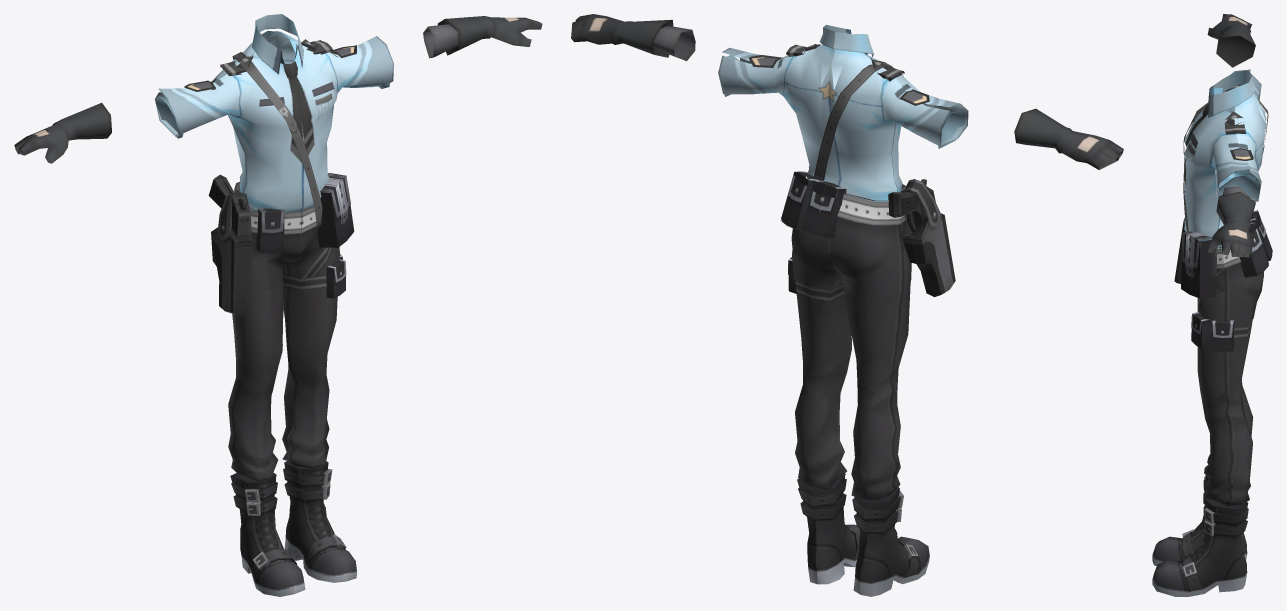
File: nvzhuang7.fbx
The picture shows the model from 3 angles, left to right: view 1: azimuth 30°, elevation 25°; view 2: azimuth 150°, elevation 25°; view 3: azimuth 270°, elevation 25°; orthographic projection. The views are drawn at different scales.
Visible parts, largest first — view 1: nan_jxjc_01; view 2: nan_jxjc_01; view 3: nan_jxjc_01.
Boxes of the visible parts, <box> form: nan_jxjc_01: <box>14,14,542,596</box>; nan_jxjc_01: <box>571,14,1123,596</box>; nan_jxjc_01: <box>1152,14,1272,596</box>.
Size of the model in its own units: 12.83 by 12.58 by 2.74.
1 material, 1 textured.
